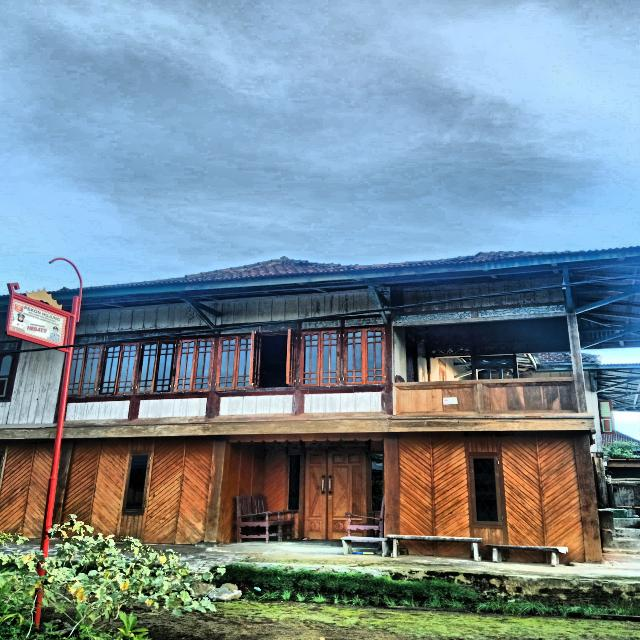door: (305, 446, 367, 540)
ornamen: (482, 381, 578, 414), (395, 384, 479, 415), (299, 387, 386, 416), (214, 390, 295, 418), (132, 394, 210, 421), (63, 397, 132, 422)
roof: (85, 247, 640, 291)
wall: (398, 430, 586, 562), (214, 292, 385, 423), (63, 306, 215, 427), (61, 436, 213, 545), (0, 317, 64, 424), (224, 443, 287, 542), (1, 439, 55, 538)
window: (250, 329, 297, 388), (343, 327, 385, 385), (299, 329, 341, 386), (469, 456, 503, 525), (174, 337, 216, 392), (136, 340, 177, 393), (99, 343, 140, 395), (216, 335, 254, 390), (68, 345, 104, 396), (125, 453, 151, 512), (0, 352, 18, 401), (370, 453, 384, 511), (288, 453, 301, 510)
